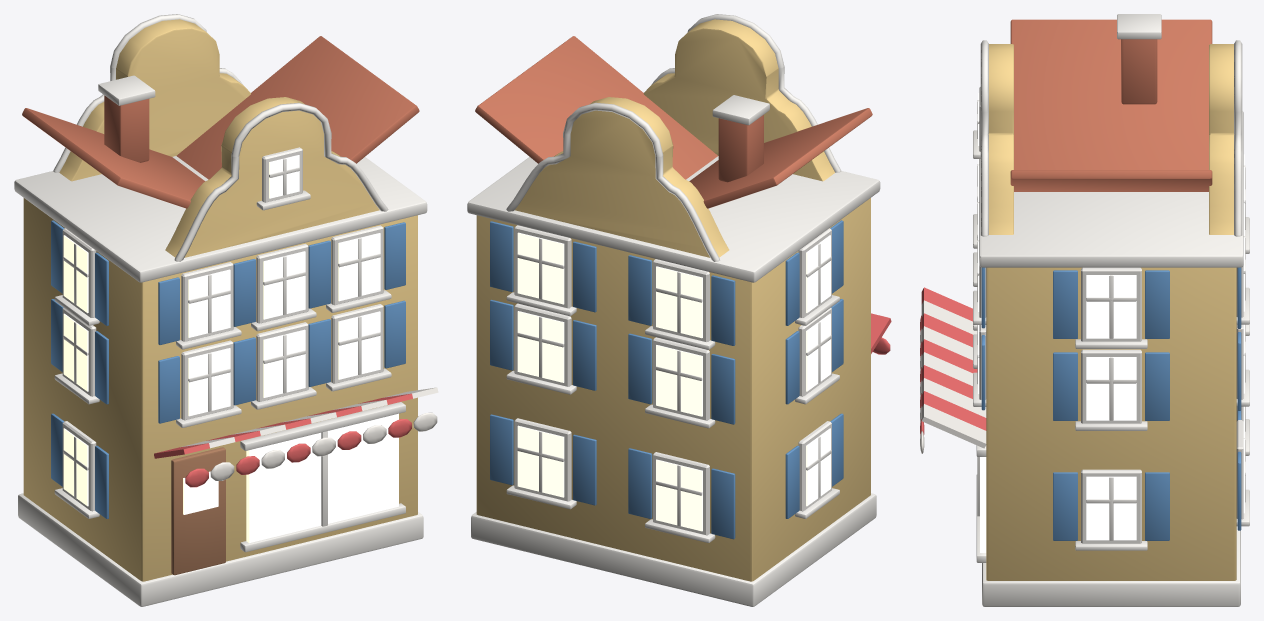
Rendered from house_b.glb.
3 renders of one model, left to right at view 1: azimuth 30°, elevation 25°; view 2: azimuth 150°, elevation 25°; view 3: azimuth 270°, elevation 25°, orthographic. The views are drawn at different scales.
Visible parts, largest first — view 1: house_b; view 2: house_b; view 3: house_b.
Part boxes in pixels (bbox=[...]): house_b: bbox=[14, 14, 438, 606]; house_b: bbox=[467, 14, 891, 606]; house_b: bbox=[920, 14, 1249, 606].
Size of the model in its own units: 2.62 by 3.88 by 2.37.
